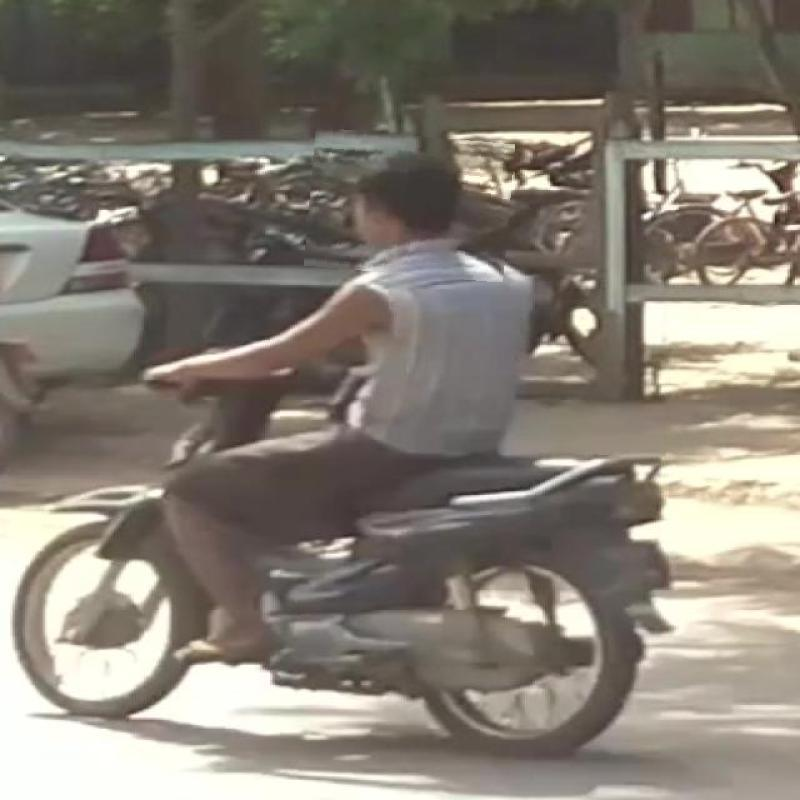nohelmet: (307, 131, 513, 278)
